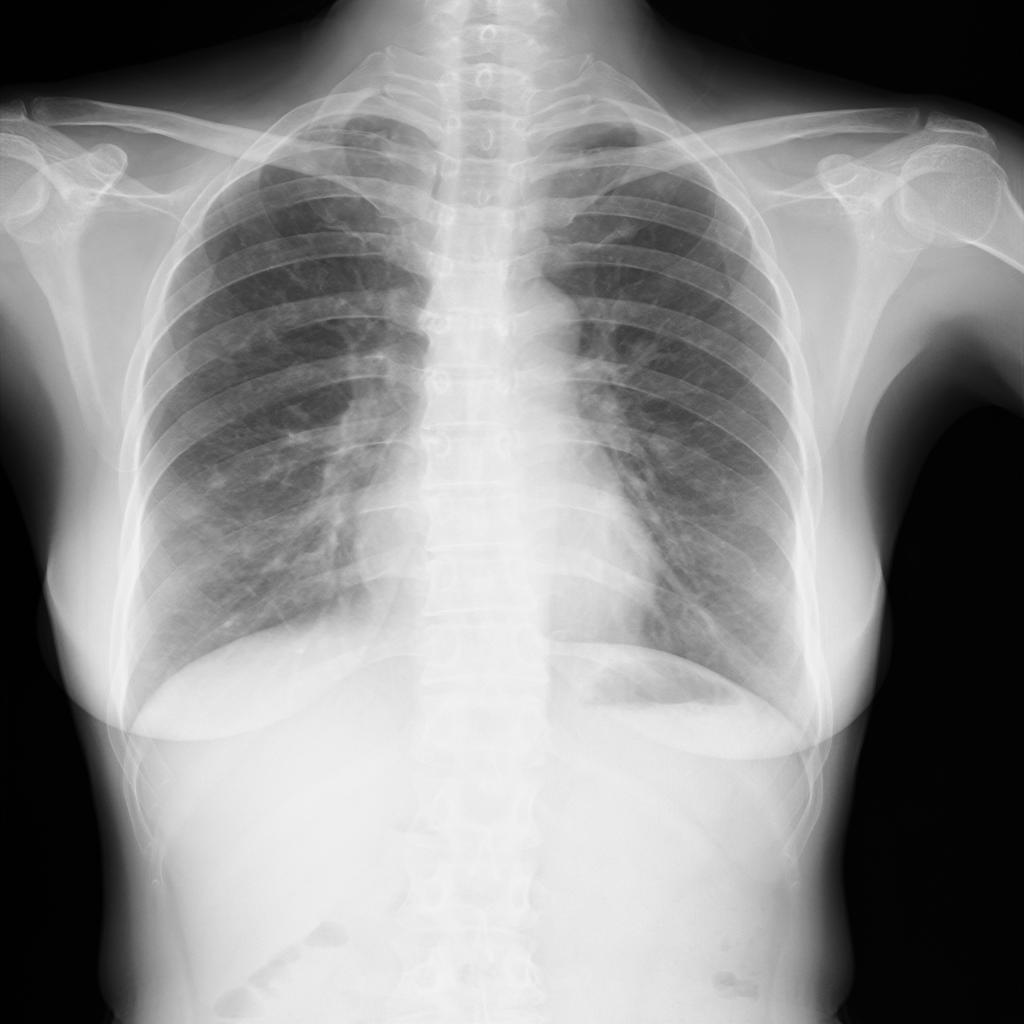Nodule: (291, 551, 333, 588), (647, 422, 687, 454), (394, 500, 432, 533), (612, 295, 642, 324), (203, 466, 229, 488), (282, 430, 313, 448), (615, 218, 641, 239), (352, 448, 377, 467), (157, 523, 177, 540), (179, 503, 198, 520), (224, 362, 239, 378), (689, 480, 707, 492), (696, 340, 711, 353), (702, 290, 718, 302), (189, 322, 199, 331)
